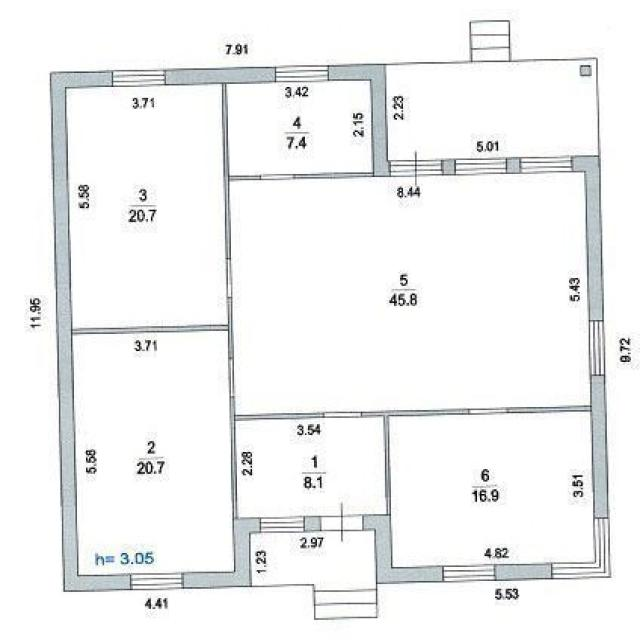Corridors: (387, 59, 598, 159), (237, 419, 384, 517), (252, 532, 376, 585)
Doors: (391, 148, 443, 187), (322, 502, 364, 543), (226, 258, 233, 298), (228, 357, 235, 397), (323, 412, 363, 419), (468, 408, 508, 414), (260, 174, 294, 180), (386, 498, 391, 514)
LBwalls: (50, 70, 131, 592), (329, 65, 391, 177), (362, 514, 442, 584), (183, 517, 259, 590), (574, 156, 604, 320), (589, 375, 609, 518), (165, 67, 275, 85), (496, 563, 551, 581), (304, 516, 321, 531), (508, 157, 519, 174), (443, 159, 454, 175)
Offices: (231, 174, 590, 414), (74, 332, 231, 574), (68, 86, 225, 325), (391, 411, 592, 566), (230, 81, 372, 175)
Stairs: (313, 585, 377, 620), (469, 19, 511, 61)
Walls: (229, 397, 323, 517), (72, 298, 234, 358), (363, 409, 468, 499), (222, 84, 260, 258), (509, 405, 590, 414), (294, 172, 374, 179)
Windows: (551, 516, 611, 579), (588, 319, 606, 375), (112, 69, 166, 86), (453, 158, 507, 175), (519, 157, 573, 174), (441, 565, 496, 581), (275, 66, 329, 82), (130, 574, 184, 590), (258, 516, 305, 533)
